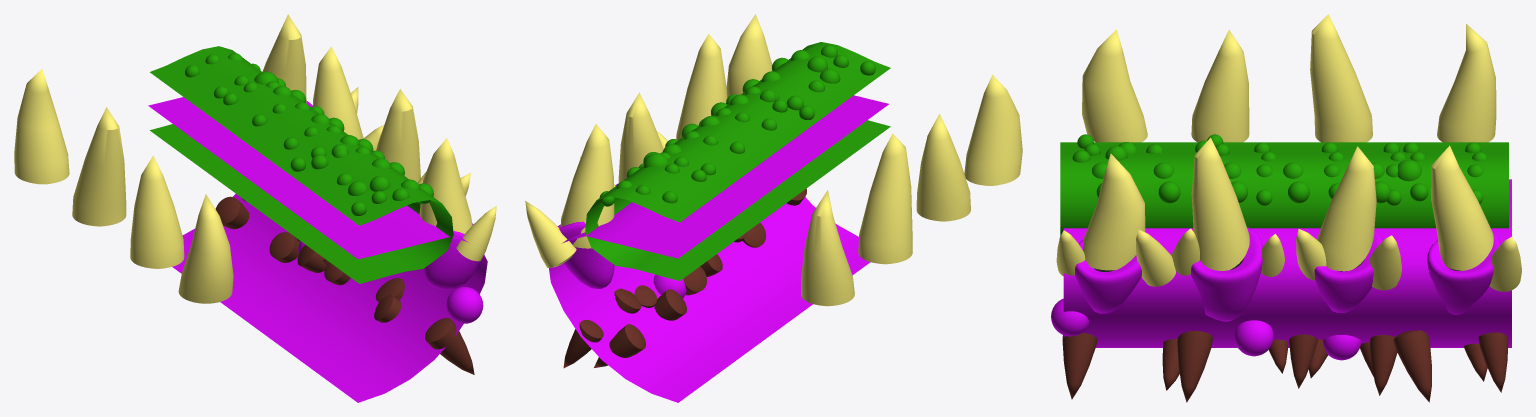
The model's file is Monster_Bottom_Part_02.fbx.
The picture shows the model from 3 angles, left to right: view 1: azimuth 30°, elevation 25°; view 2: azimuth 150°, elevation 25°; view 3: azimuth 270°, elevation 25°; orthographic projection. The views are drawn at different scales.
Parts seen in each view (by area): view 1: LowerMouth, Tongue, Sphere.001, Cylinder.037, Cylinder.028, Cylinder.040, Cylinder.015, Cylinder.011, Cylinder.008, Cylinder.009, Cylinder.010, Eye_01.017 (+8 smaller); view 2: LowerMouth, Tongue, Sphere.001, Cylinder.037, Cylinder.015, Cylinder.028, Cylinder.040, Cylinder.010, Cylinder.008, Cylinder.011, Cylinder.009, Eye_01.014 (+7 smaller); view 3: LowerMouth, Tongue, Sphere.001, Cylinder.037, Cylinder.008, Cylinder.010, Cylinder.015, Cylinder.009, Cylinder.011, Cylinder.028, Cylinder.040, Eye_01.016 (+22 smaller).
Boxes of the visible parts, bbox=[...] form: LowerMouth: bbox=[148, 97, 487, 402]; Tongue: bbox=[150, 46, 453, 283]; Sphere.001: bbox=[185, 53, 433, 215]; Cylinder.037: bbox=[72, 107, 126, 226]; Cylinder.028: bbox=[14, 69, 69, 184]; Cylinder.040: bbox=[130, 155, 184, 268]; Cylinder.015: bbox=[178, 194, 233, 303]; Cylinder.011: bbox=[419, 138, 472, 233]; Cylinder.008: bbox=[376, 89, 420, 182]; Cylinder.009: bbox=[312, 46, 363, 139]; Cylinder.010: bbox=[262, 14, 306, 103]; Eye_01.017: bbox=[424, 223, 478, 289]; LowerMouth: bbox=[549, 95, 888, 402]; Tongue: bbox=[585, 42, 890, 280]; Sphere.001: bbox=[599, 45, 875, 206]; Cylinder.037: bbox=[858, 133, 912, 264]; Cylinder.015: bbox=[964, 74, 1022, 185]; Cylinder.028: bbox=[801, 190, 854, 306]; Cylinder.040: bbox=[916, 113, 970, 221]; Cylinder.010: bbox=[560, 124, 614, 248]; Cylinder.008: bbox=[676, 33, 727, 139]; Cylinder.011: bbox=[726, 14, 772, 97]; Cylinder.009: bbox=[618, 92, 663, 183]; Eye_01.014: bbox=[557, 221, 614, 288]; LowerMouth: bbox=[1063, 179, 1511, 347]; Tongue: bbox=[1060, 142, 1508, 235]; Sphere.001: bbox=[1072, 134, 1487, 205]; Cylinder.037: bbox=[1310, 14, 1372, 142]; Cylinder.008: bbox=[1191, 137, 1249, 270]; Cylinder.010: bbox=[1431, 145, 1493, 270]; Cylinder.015: bbox=[1082, 29, 1147, 142]; Cylinder.009: bbox=[1316, 146, 1376, 271]; Cylinder.011: bbox=[1083, 153, 1145, 270]; Cylinder.028: bbox=[1437, 23, 1496, 142]; Cylinder.040: bbox=[1191, 29, 1249, 142]; Eye_01.016: bbox=[1191, 227, 1262, 321].
Size of the model in its own units: 249 by 189 by 312.
